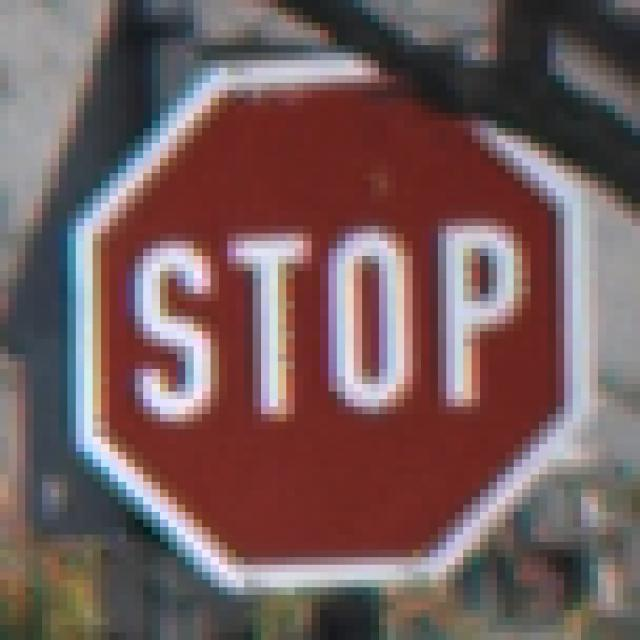stop: (51, 48, 595, 595)
